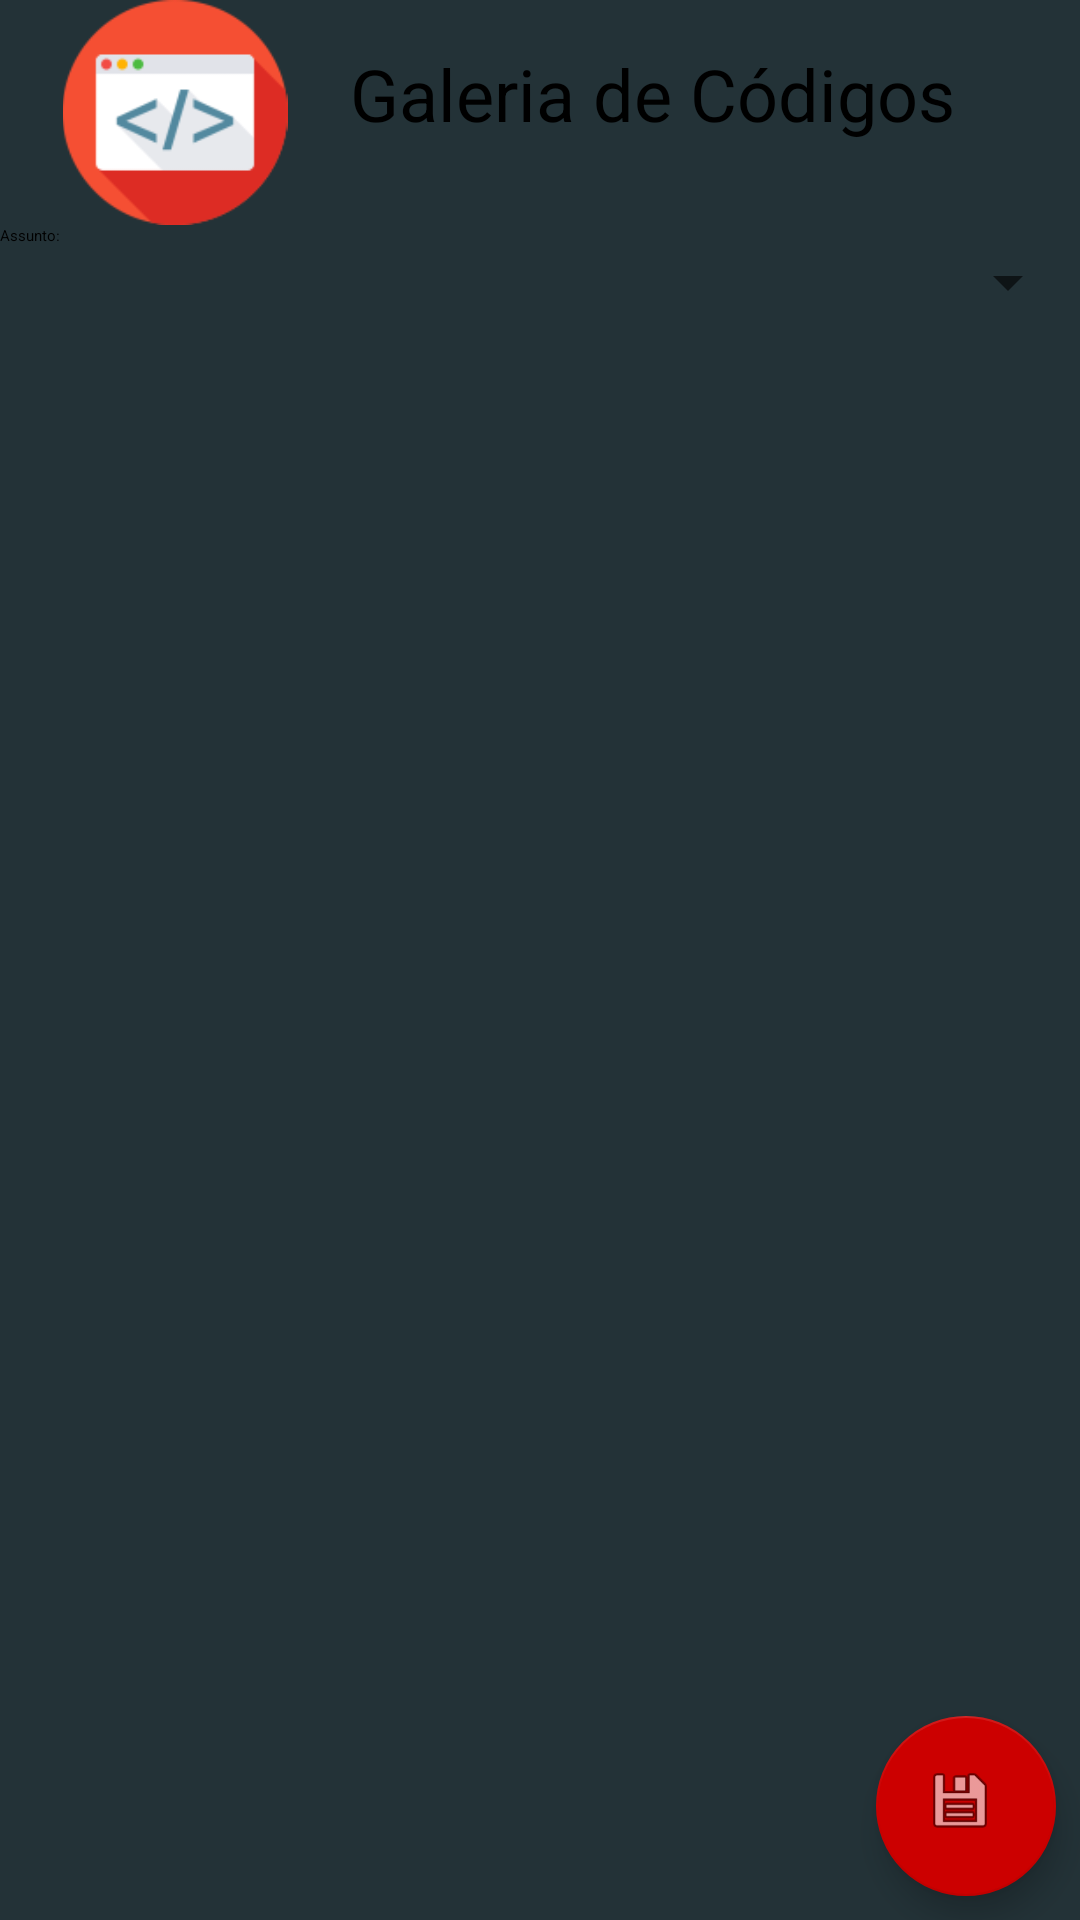

Point at icon controls on the screen. Image size 1080 × 1920, points as [x,y].
save: [966,1806]
